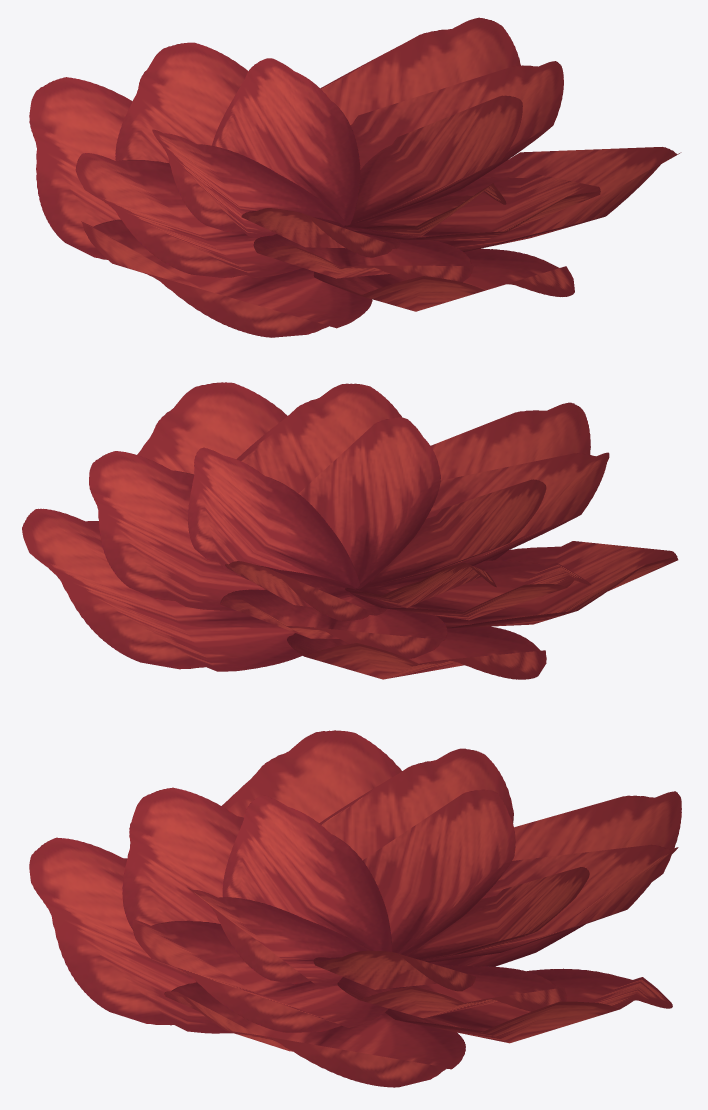
File: F_Flower_05.fbx
3 views of the same model, one above another, from view 1: azimuth 30°, elevation 25°; view 2: azimuth 150°, elevation 25°; view 3: azimuth 270°, elevation 25° (orthographic). The views are drawn at different scales.
Visible parts, largest first — view 1: F_Flower_05; view 2: F_Flower_05; view 3: F_Flower_05.
Boxes of the visible parts, left/top/right/bottom form: F_Flower_05: left=29, top=17, right=681, bottom=337; F_Flower_05: left=22, top=382, right=678, bottom=679; F_Flower_05: left=29, top=730, right=681, bottom=1087.
Bounding box in the file's own units: 152 × 34.39 × 149.
